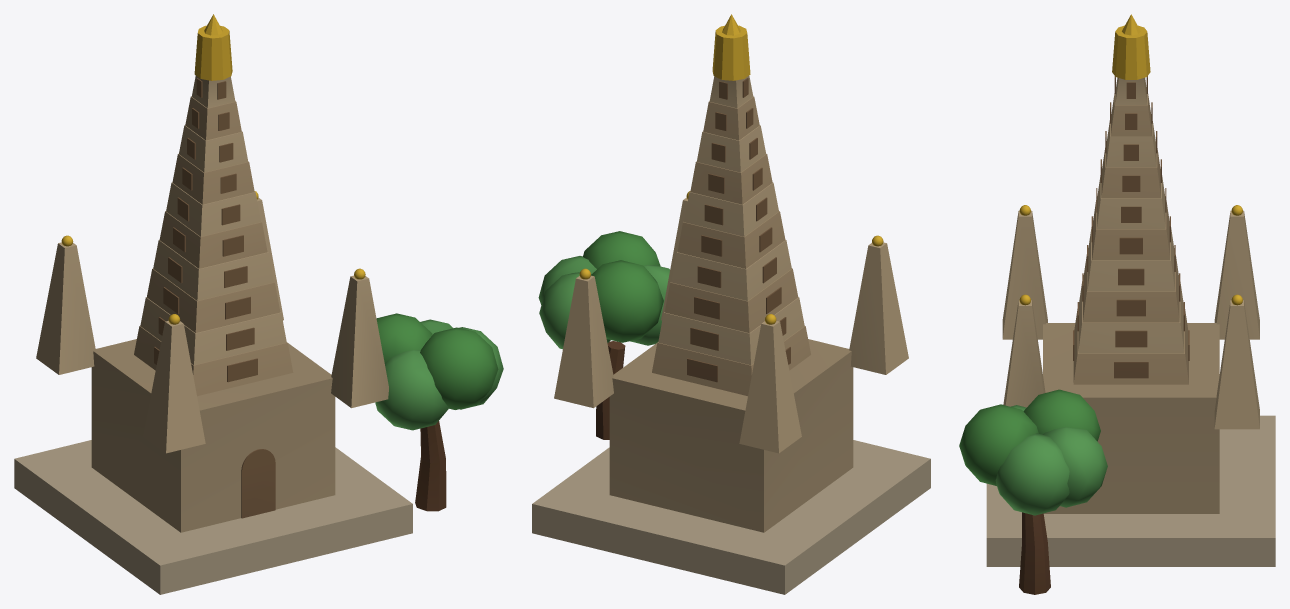
The model's file is lm-mahabodhi.glb.
The picture shows the model from 3 angles, left to right: view 1: azimuth 30°, elevation 25°; view 2: azimuth 150°, elevation 25°; view 3: azimuth 270°, elevation 25°; orthographic projection.
Bounding box in the file's own units: 12.9 × 16.93 × 9.86.
